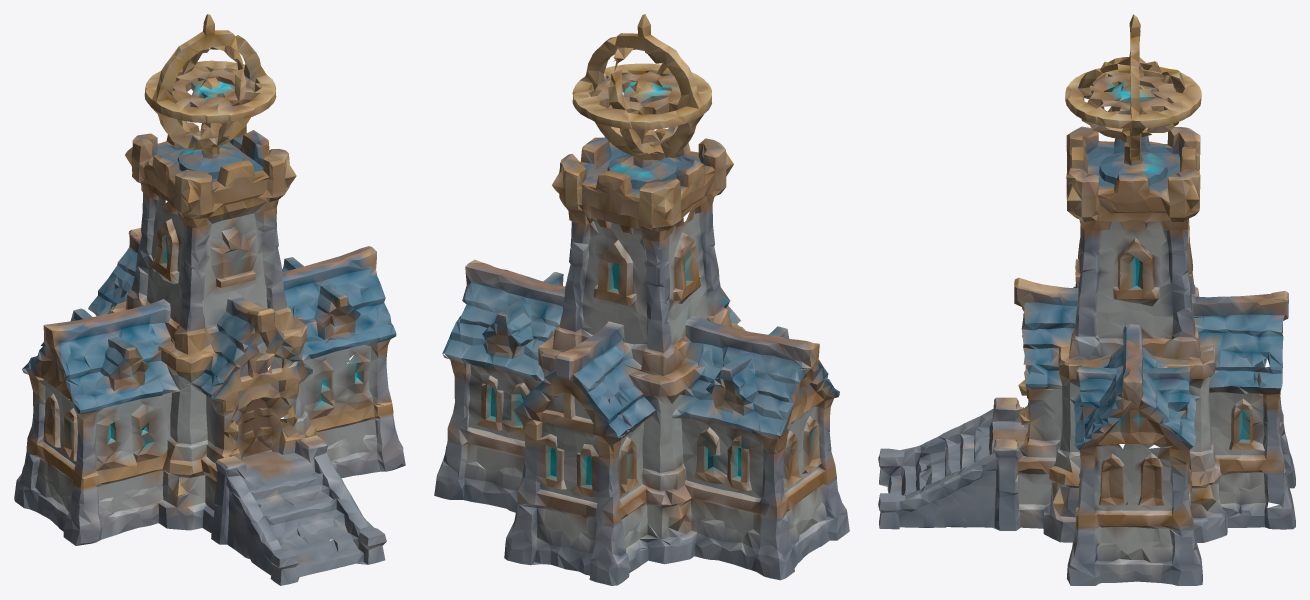
File: building_grand_academy_lod2.glb
3 renders of one model, left to right at view 1: azimuth 30°, elevation 25°; view 2: azimuth 150°, elevation 25°; view 3: azimuth 270°, elevation 25°, orthographic. The views are drawn at different scales.
Parts seen in each view (by area): view 1: world; view 2: world; view 3: world.
Part boxes in pixels (box(x1,y1,x2,y2)): world: box(14, 14, 405, 585); world: box(434, 14, 849, 585); world: box(878, 14, 1295, 585).
Size of the model in its own units: 1.39 by 1.9 by 1.47.
